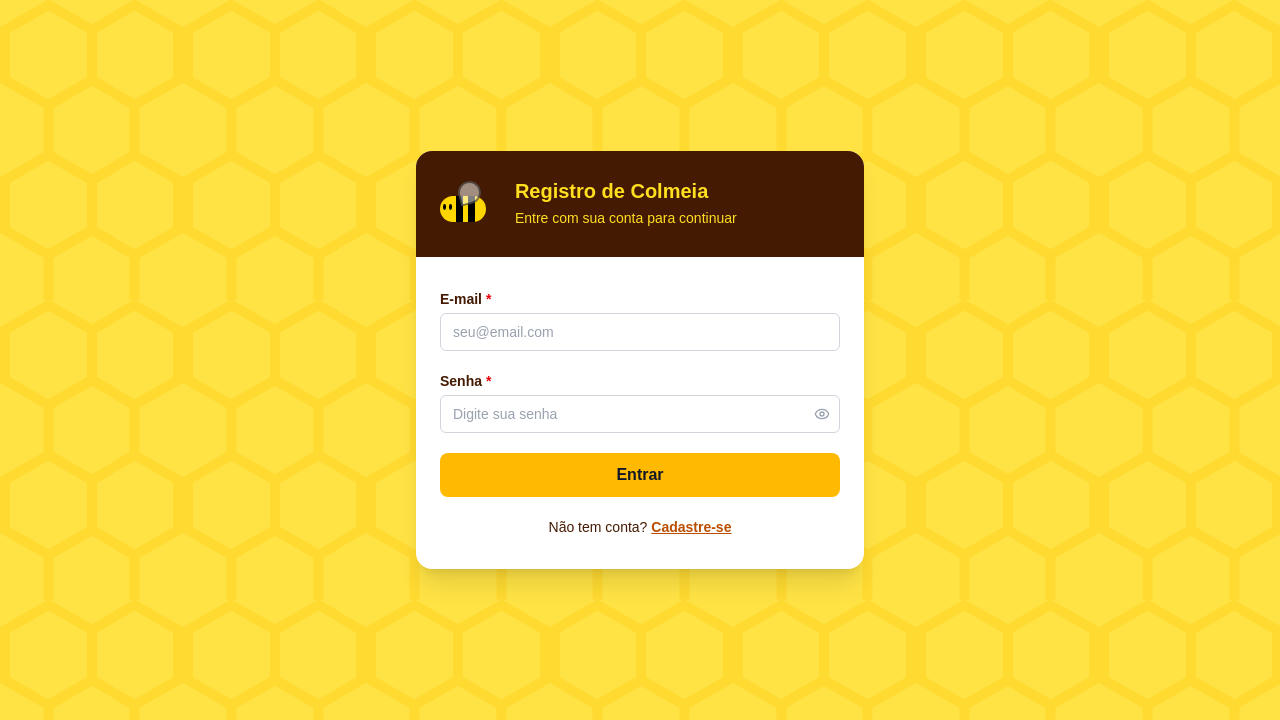
Test: Página de Login — integração › exibe erro quando credenciais são inválidas
In the field labelled "E-mail*": (640, 332) [440, 312, 840, 350], type "errado@email.com"
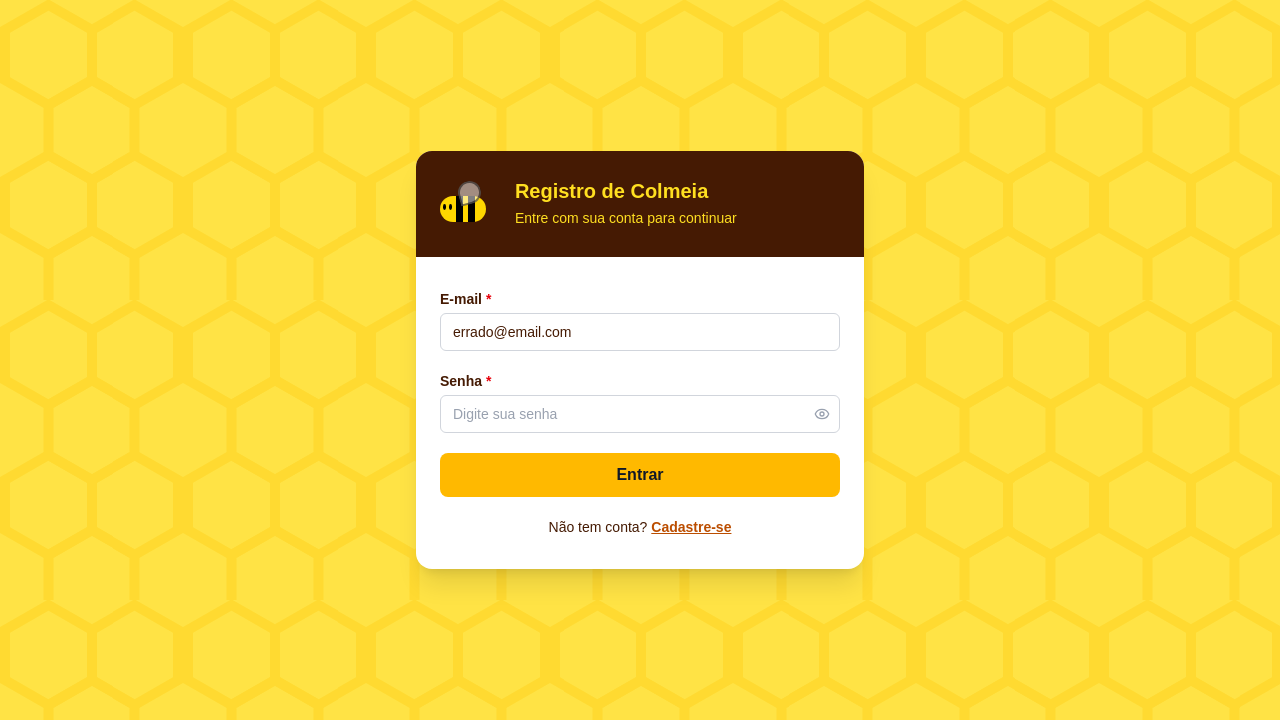
# campo senha não tem role textbox — usar querySelector
In the password field with id "senha": (640, 414) [440, 394, 840, 432], type "senhaerrada"
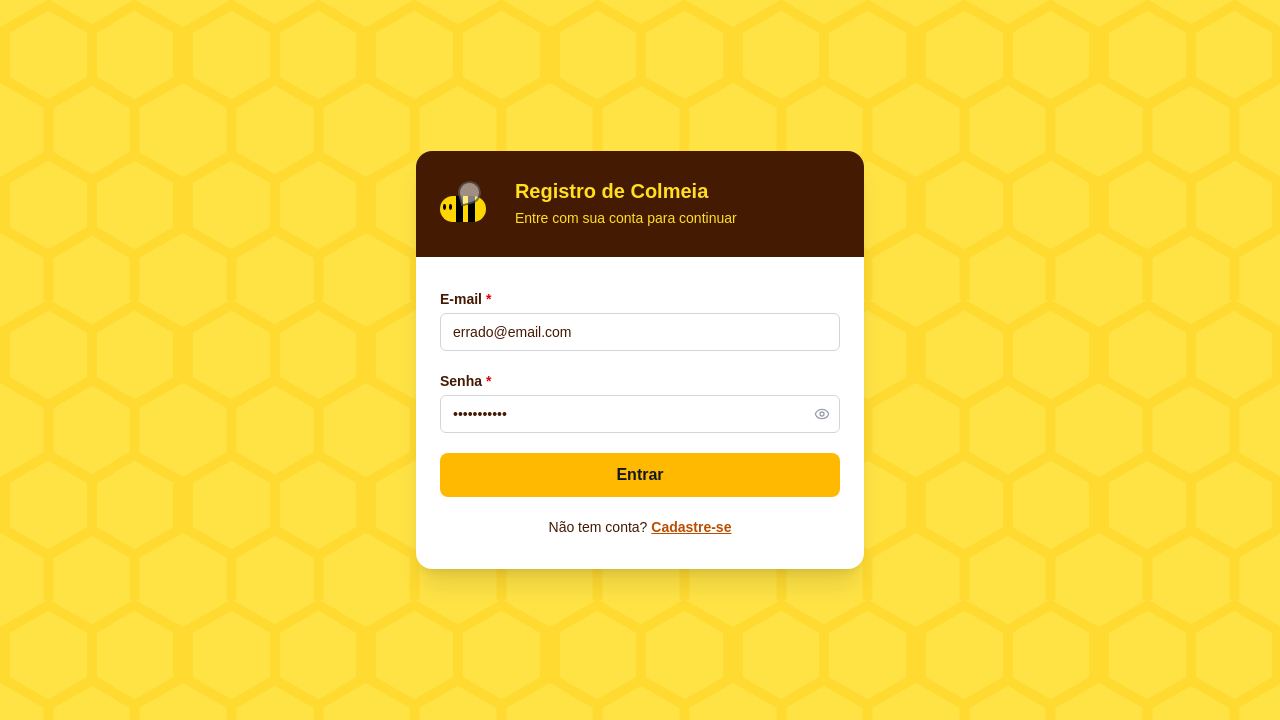
Click the button "Entrar": (640, 474) [440, 452, 840, 496]
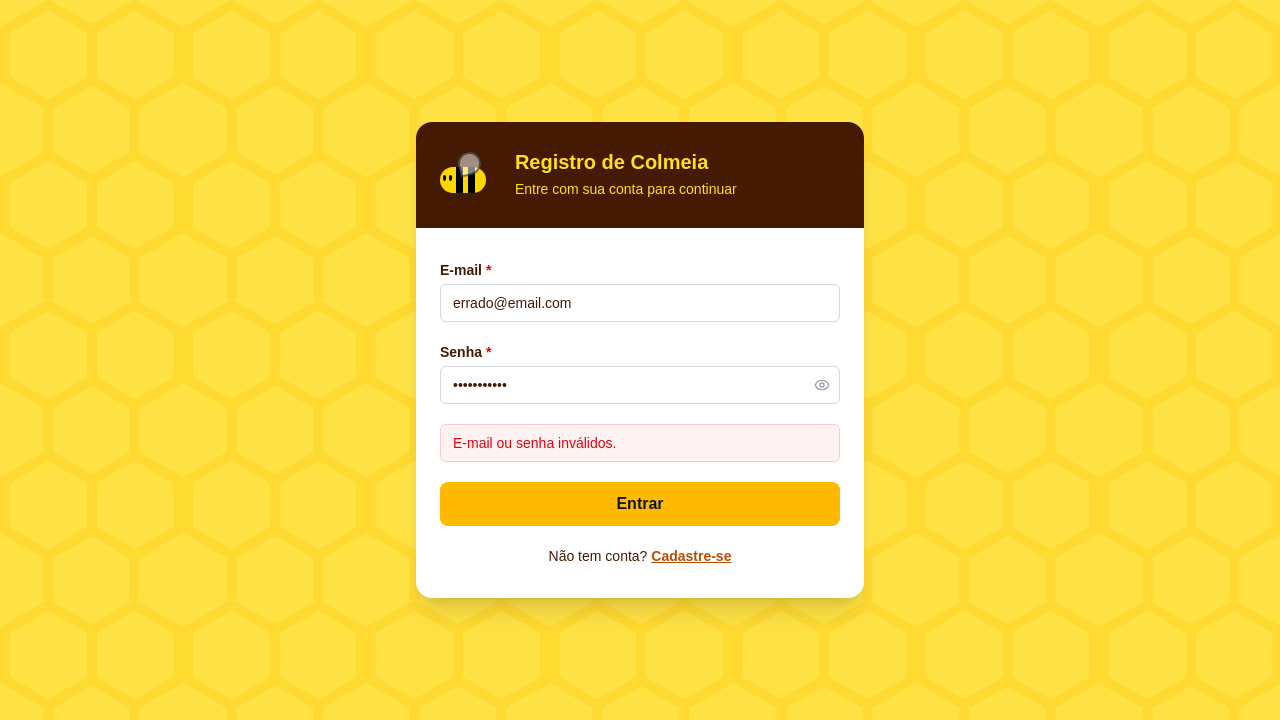
Expected: the message reads "E-mail ou senha inválidos.", [453, 434, 616, 450]
